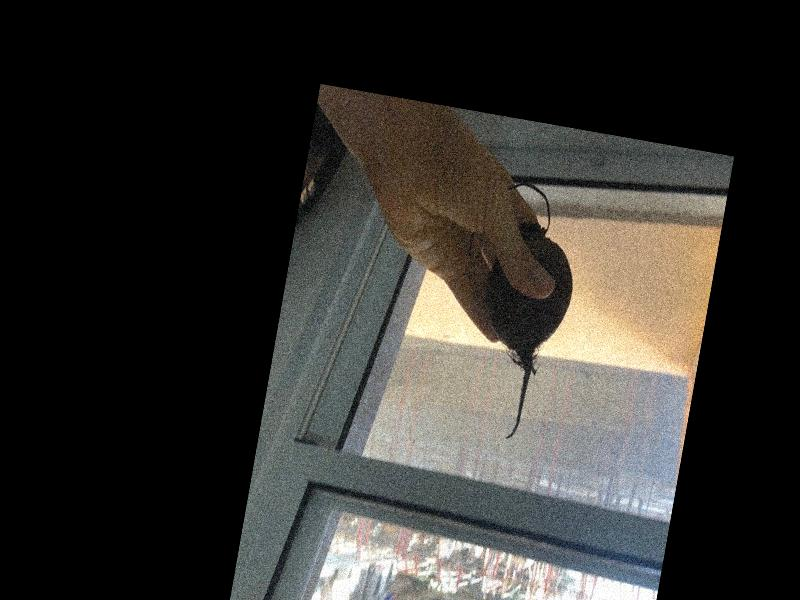Beet: (436, 175, 589, 446)
